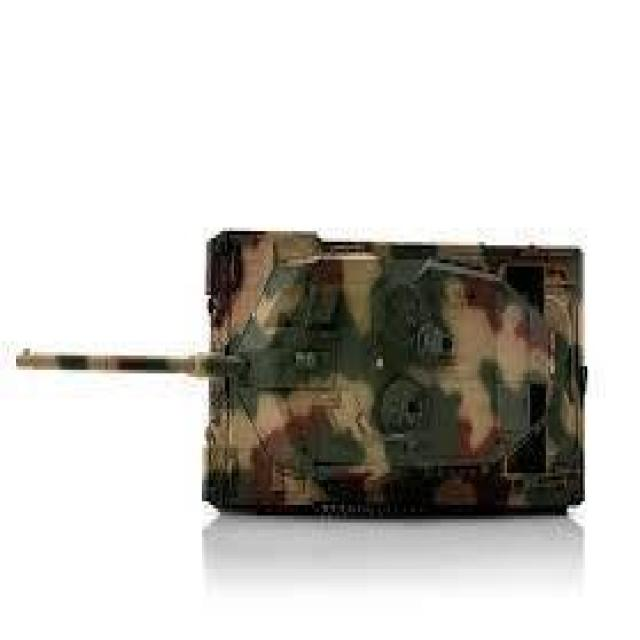Tanks: (192, 218, 595, 524)
